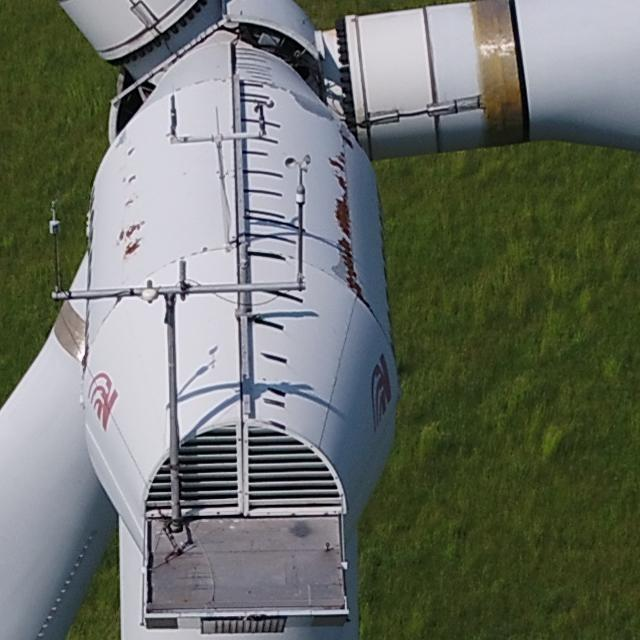damage: (338, 248, 377, 316), (332, 197, 357, 243), (114, 221, 146, 241), (327, 143, 348, 170), (332, 169, 351, 194), (120, 238, 142, 257), (116, 130, 129, 146), (124, 171, 138, 185), (125, 142, 136, 159), (124, 195, 133, 208)
